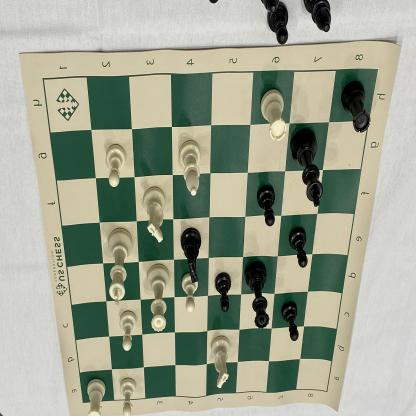black-king: (290, 124, 324, 209)
black-knight: (178, 228, 202, 284)
black-pawn: (255, 184, 277, 228), (287, 226, 309, 269), (212, 271, 233, 314), (281, 300, 300, 343)
black-queen: (244, 259, 270, 328)
black-rook: (339, 79, 370, 135)
white-bishop: (177, 138, 202, 197)
white-king: (104, 227, 134, 308)
white-knight: (142, 185, 168, 245)
white-pawn: (104, 142, 127, 189), (118, 375, 138, 416), (119, 310, 138, 353), (180, 272, 199, 314)
white-queen: (144, 262, 171, 335)
white-rook: (259, 86, 288, 146), (84, 376, 108, 416)
